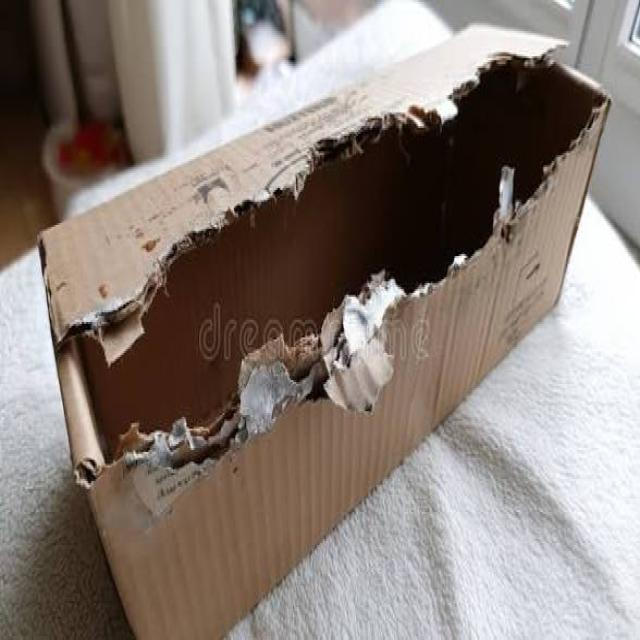package_damage: (42, 16, 621, 559)
